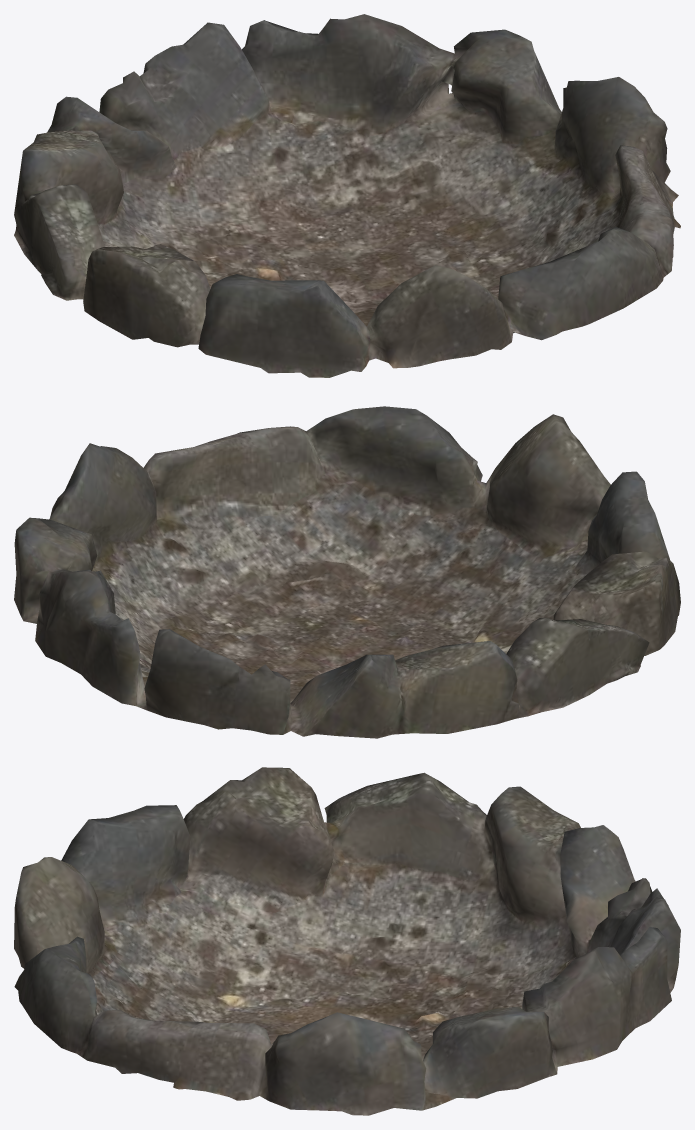
Rendered from stone_fire_pit.glb.
The picture shows the model from 3 angles, top to bottom: view 1: azimuth 30°, elevation 25°; view 2: azimuth 150°, elevation 25°; view 3: azimuth 270°, elevation 25°; orthographic projection.
Visible parts, largest first — view 1: stone_fire_pit; view 2: stone_fire_pit; view 3: stone_fire_pit.
Part boxes in pixels (<box>): stone_fire_pit: <box>14,14,680,377</box>; stone_fire_pit: <box>14,406,680,738</box>; stone_fire_pit: <box>14,767,680,1115</box>.
Size of the model in its own units: 1.45 by 0.3883 by 1.43.
1 material, 1 textured.
